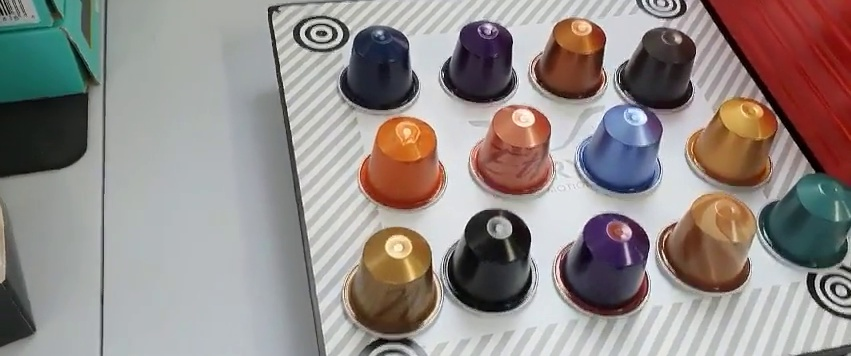capsule_1: (339, 26, 426, 111)
capsule_10: (438, 209, 540, 313)
capsule_11: (552, 211, 655, 318)
capsule_12: (659, 192, 755, 294)
capsule_13: (761, 168, 851, 272)
capsule_2: (441, 18, 522, 104)
capsule_3: (528, 17, 607, 104)
capsule_4: (615, 24, 703, 110)
capsule_5: (354, 116, 451, 211)
capsule_6: (471, 107, 557, 198)
capsule_7: (574, 105, 665, 192)
capsule_8: (686, 92, 782, 190)
capsule_9: (343, 227, 446, 330)
